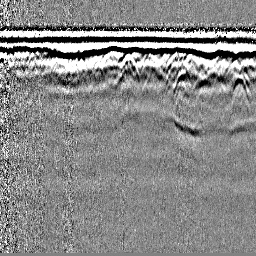cavity: (114, 52, 139, 85)
